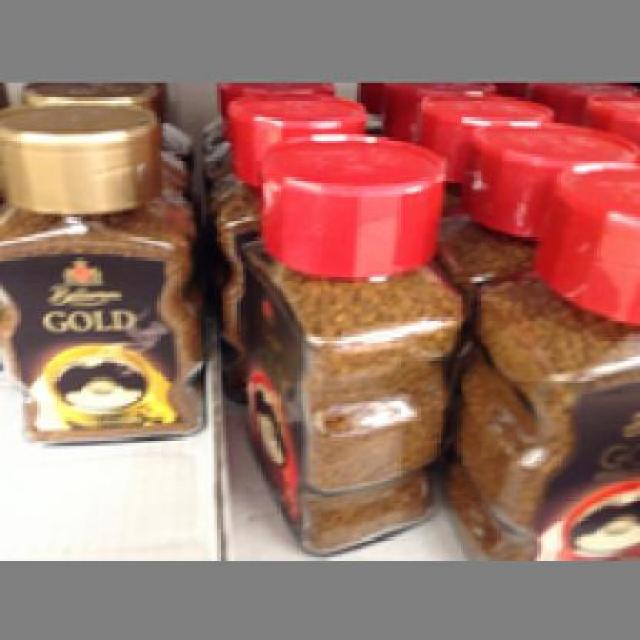Coffee: (234, 128, 457, 548), (448, 160, 638, 557), (0, 100, 203, 446)
